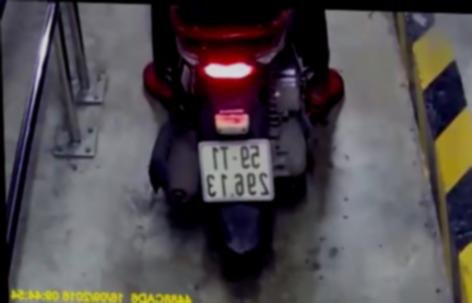License_Plate: (194, 133, 282, 212)
